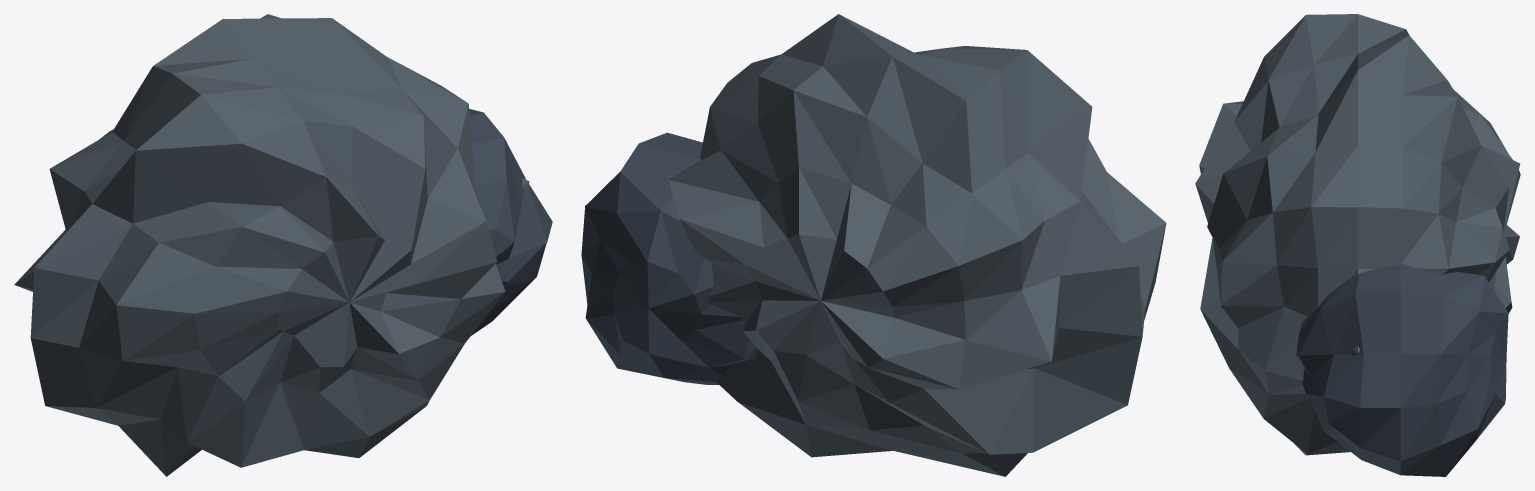
Rendered from TP_DBA_PCG_RockScatter.obj.
3 views of the same model, side by side, from view 1: azimuth 30°, elevation 25°; view 2: azimuth 150°, elevation 25°; view 3: azimuth 270°, elevation 25° (orthographic). The views are drawn at different scales.
Visible parts, largest first — view 1: TP_DBA_PCG_RockScatter; view 2: TP_DBA_PCG_RockScatter; view 3: TP_DBA_PCG_RockScatter.
Part boxes in pixels (x1,y1,x2,y2): TP_DBA_PCG_RockScatter: [14, 14, 552, 476]; TP_DBA_PCG_RockScatter: [581, 14, 1166, 476]; TP_DBA_PCG_RockScatter: [1195, 14, 1520, 476].
Size of the model in its own units: 325 by 249 by 190.
